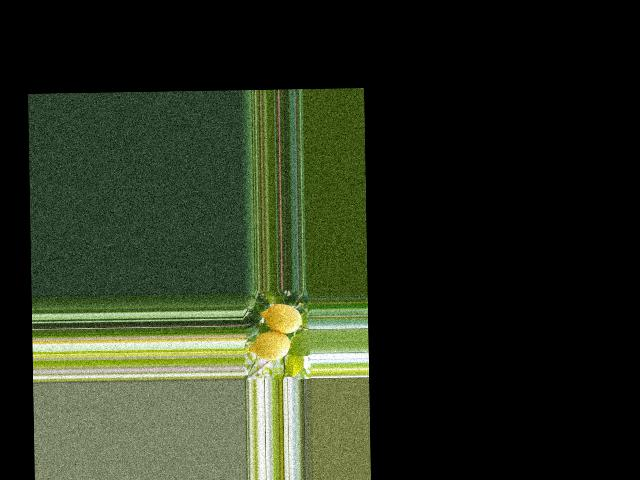lemon: (249, 329, 293, 363)
